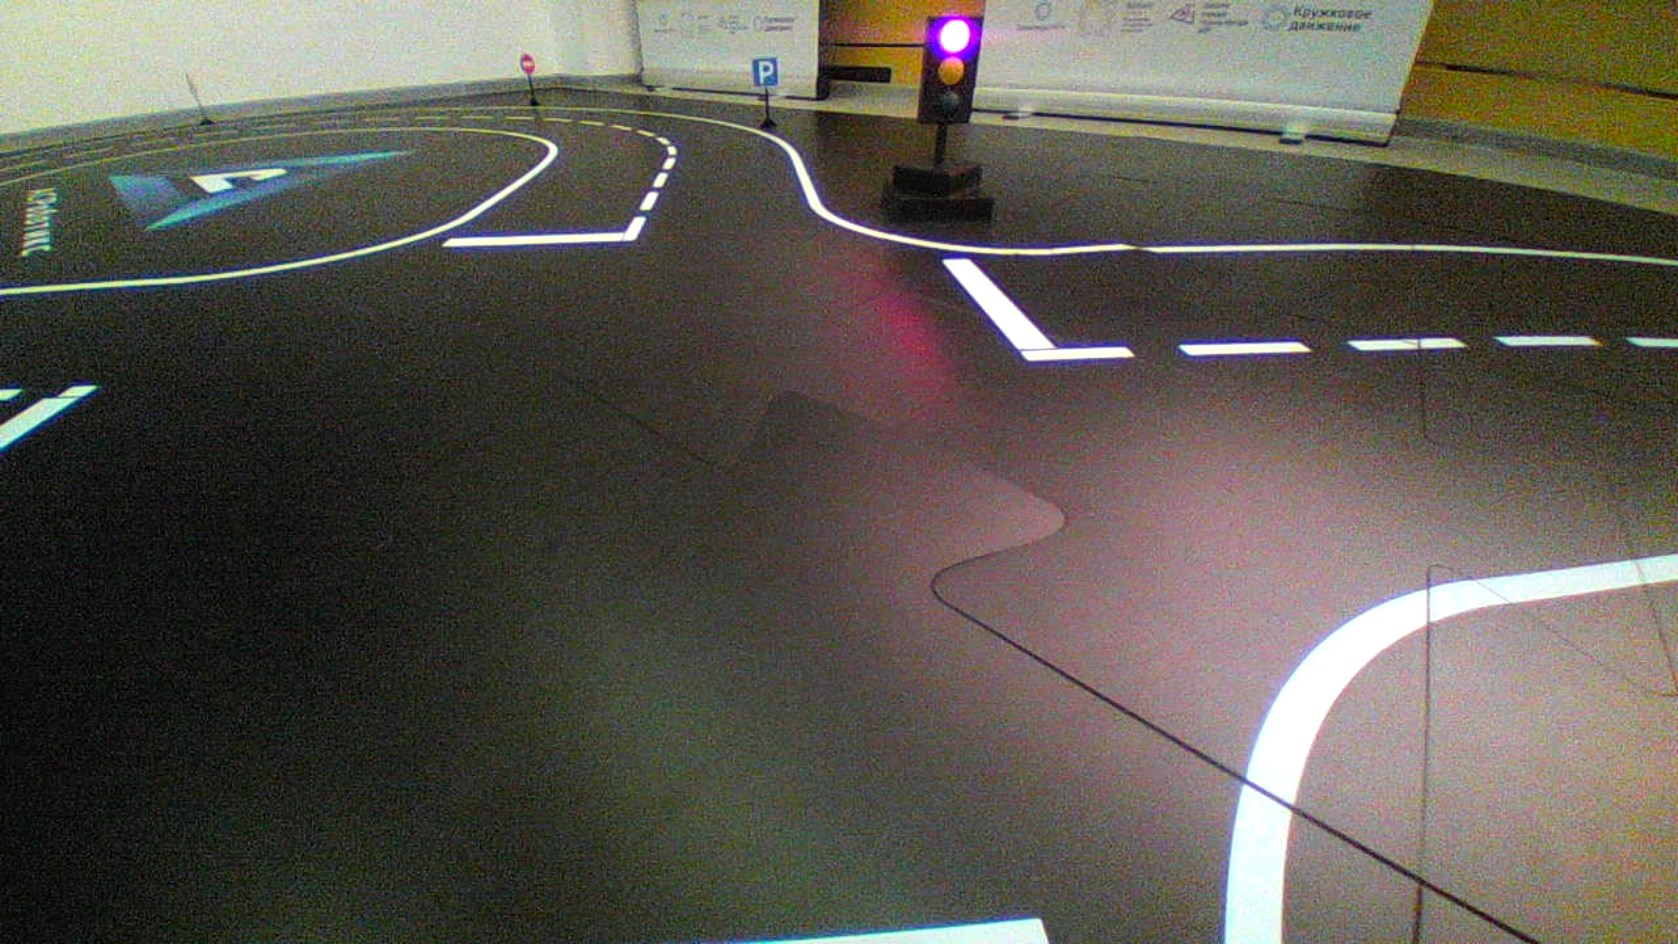trafficlight: (915, 15, 984, 126)
